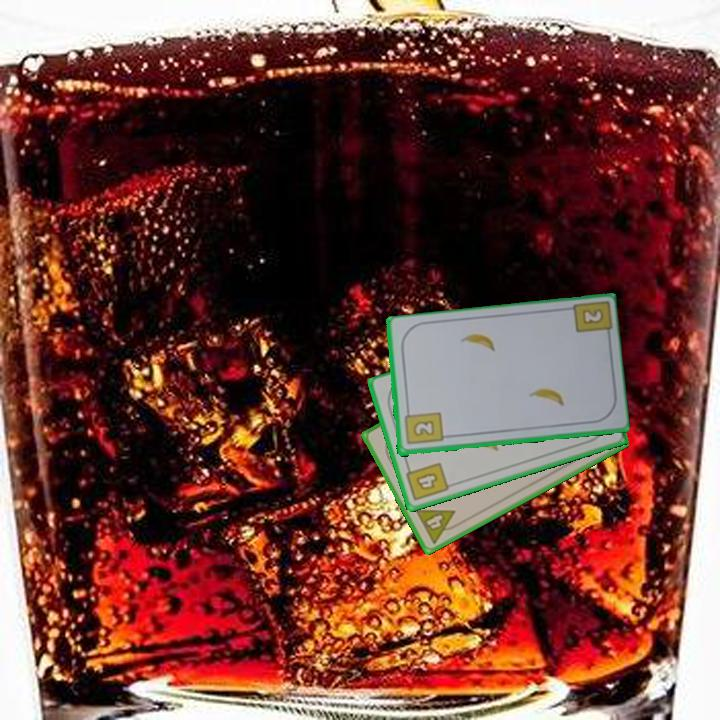2b: (401, 406, 445, 448), (581, 308, 604, 325)
4b: (402, 459, 452, 504)
4p: (412, 506, 464, 547)
